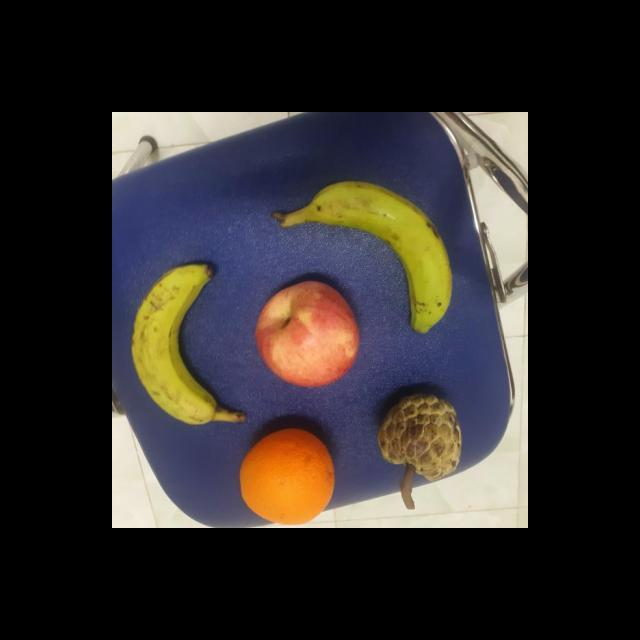Sakya fruit: (374, 387, 464, 482)
apple: (252, 274, 364, 390)
banana: (262, 180, 454, 336), (124, 262, 246, 426)
orange: (235, 427, 337, 526)
